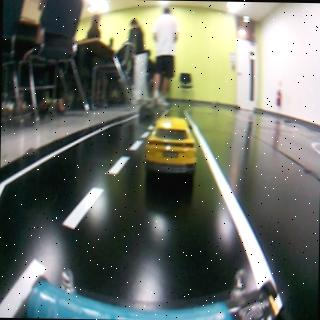car: (147, 117, 200, 174), (140, 105, 158, 121)
